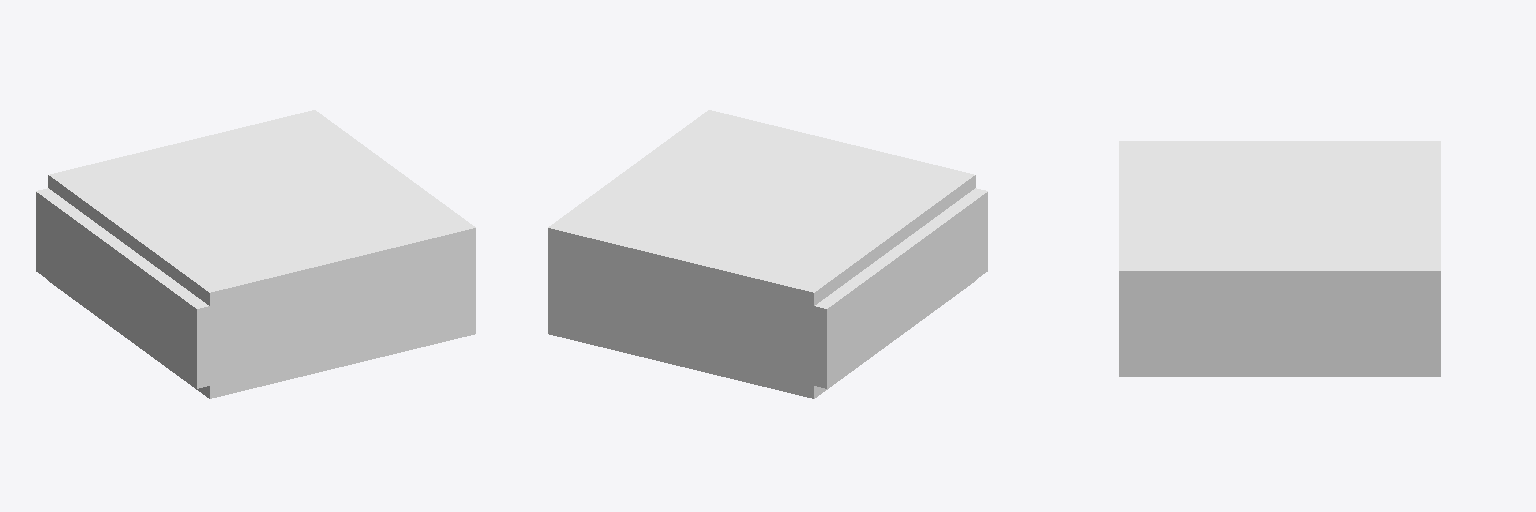
File: Bok01.obj
3 renders of one model, left to right at view 1: azimuth 30°, elevation 25°; view 2: azimuth 150°, elevation 25°; view 3: azimuth 270°, elevation 25°, orthographic.
Parts seen in each view (by area): view 1: object 1; view 2: object 1; view 3: object 1.
Part boxes in pixels (x1,y1,x2,y2): object 1: (36,110,475,398); object 1: (548,110,987,398); object 1: (1119,141,1440,376).
Bounding box in the file's own units: 2.2 × 0.8 × 2.2.